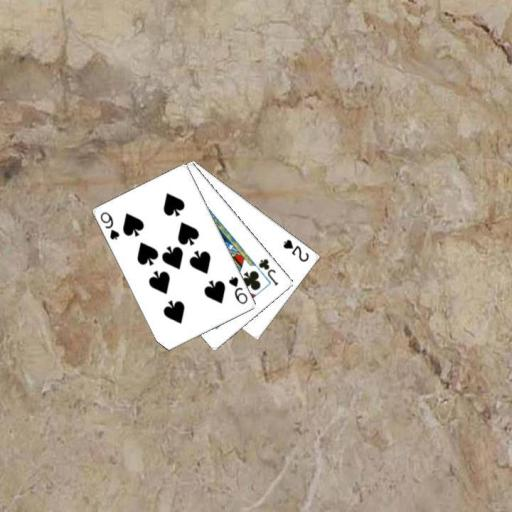2S: (280, 236, 311, 263)
9S: (226, 273, 250, 306), (98, 209, 122, 241)
JC: (255, 256, 280, 288)
